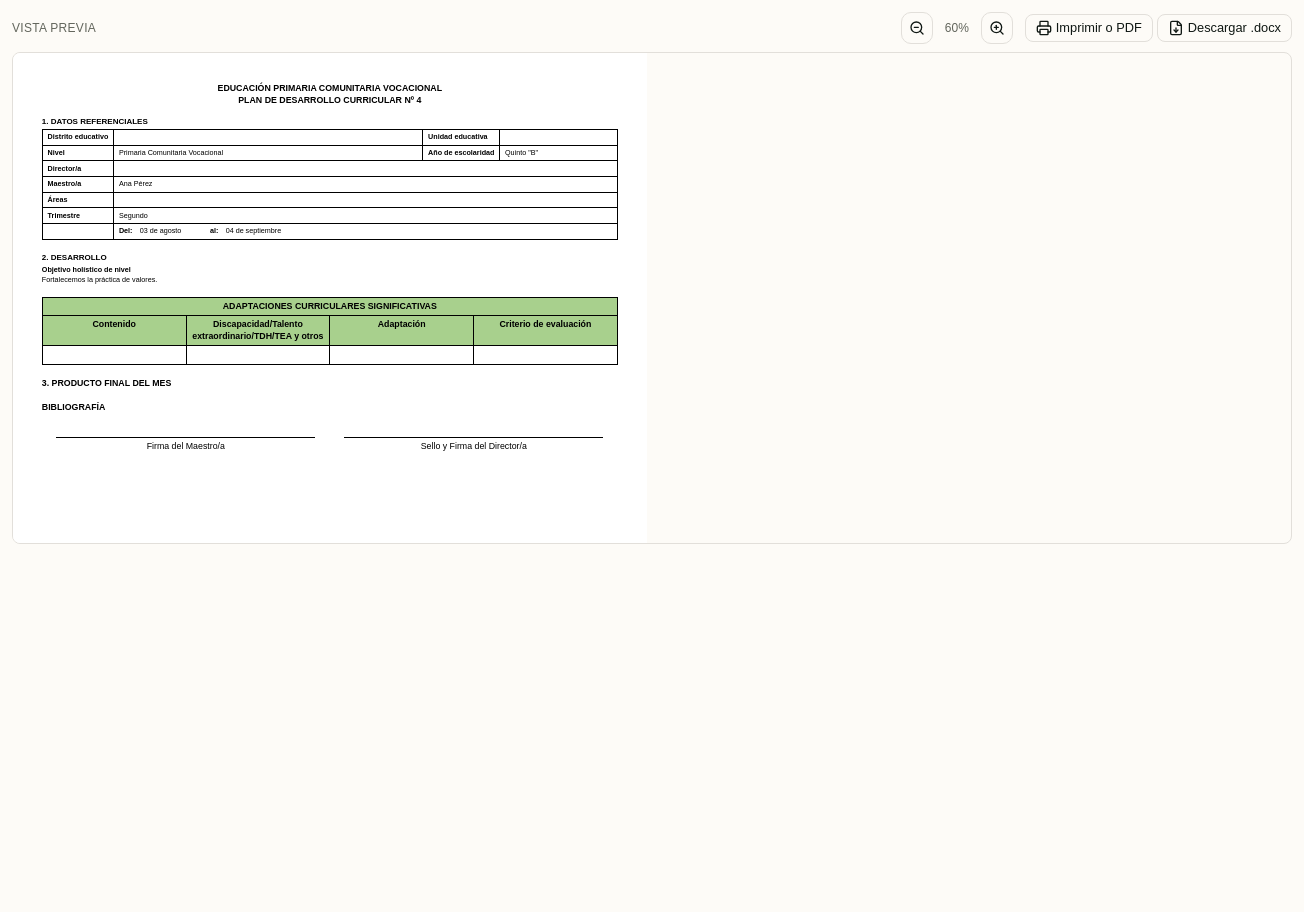
it: PdcDocumentPanel › opens the sheet up a step at a time
Click the button named "Acercar la vista previa": point(997, 28) [981,12,1013,44]
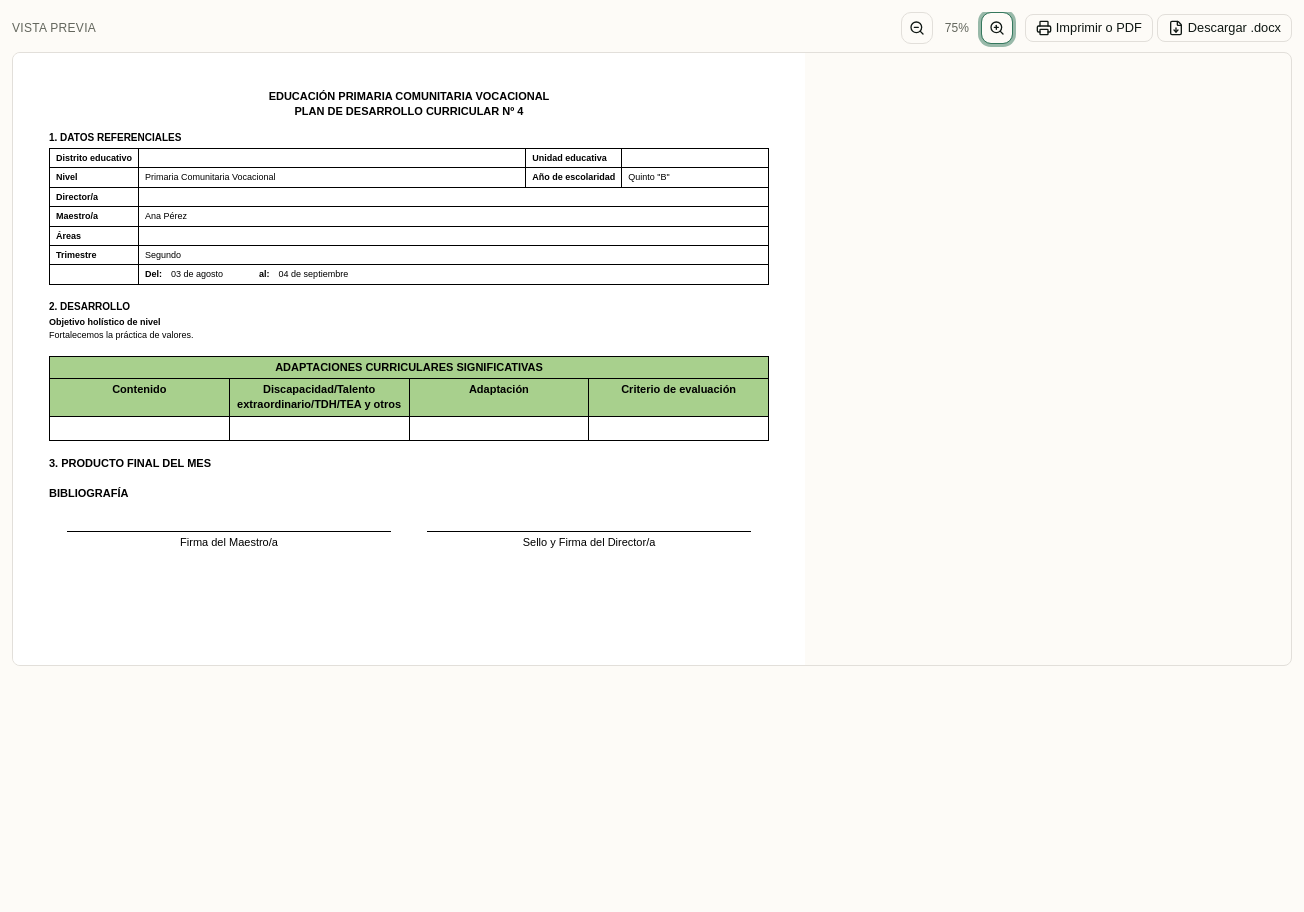
expect the text "75%" is shown: met, box [945,21,969,35]
